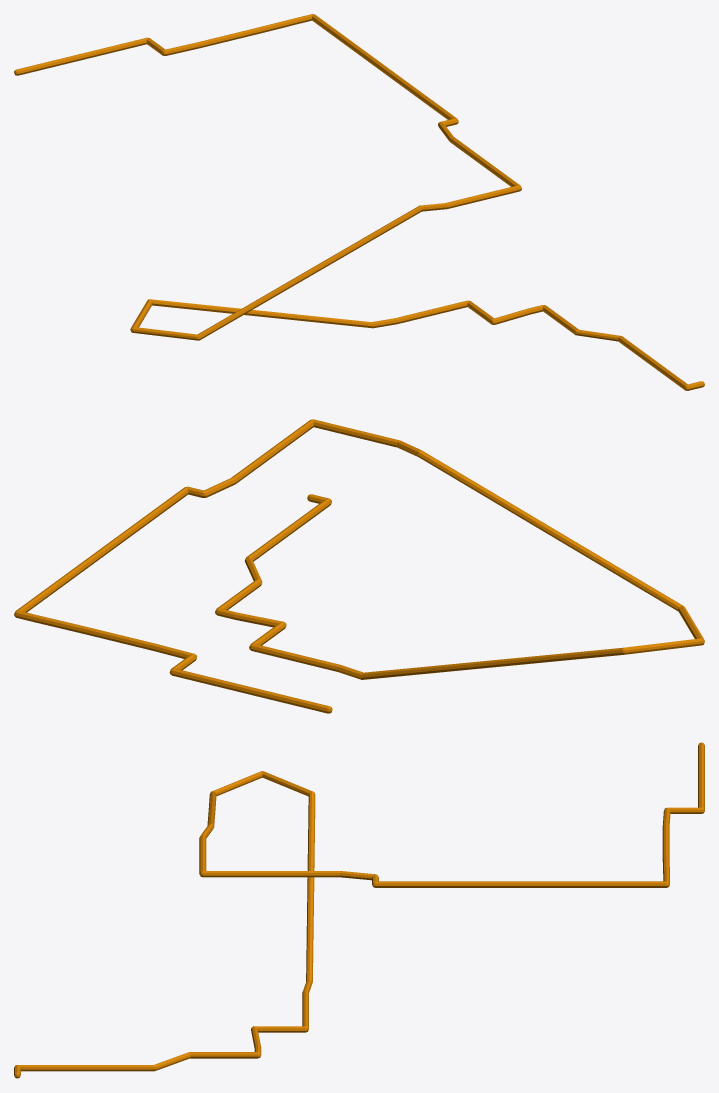
3 renders of one model, top to bottom at view 1: azimuth 30°, elevation 25°; view 2: azimuth 150°, elevation 25°; view 3: azimuth 270°, elevation 25°, orthographic. The views are drawn at different scales.
Bounding box in the file's own units: 1563 × 520 × 2017.
